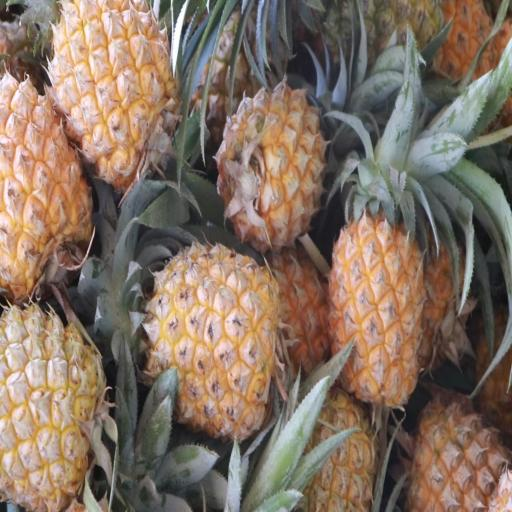Pineapple - v8 v1: (151, 245, 280, 434), (56, 0, 177, 192), (0, 304, 105, 509), (0, 74, 92, 291), (326, 204, 424, 406), (221, 85, 323, 244), (292, 394, 374, 512)
